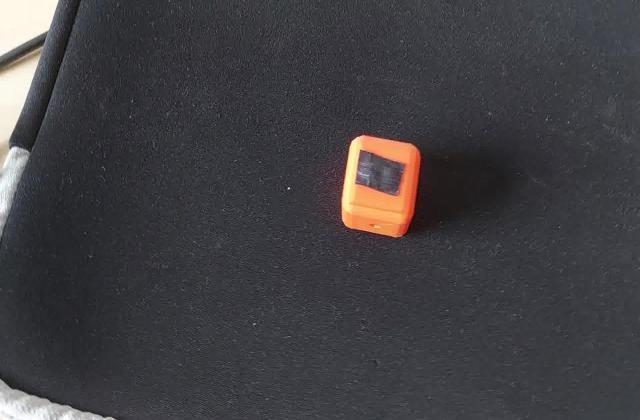black: (353, 151, 412, 198)
sticker: (336, 132, 424, 245)
